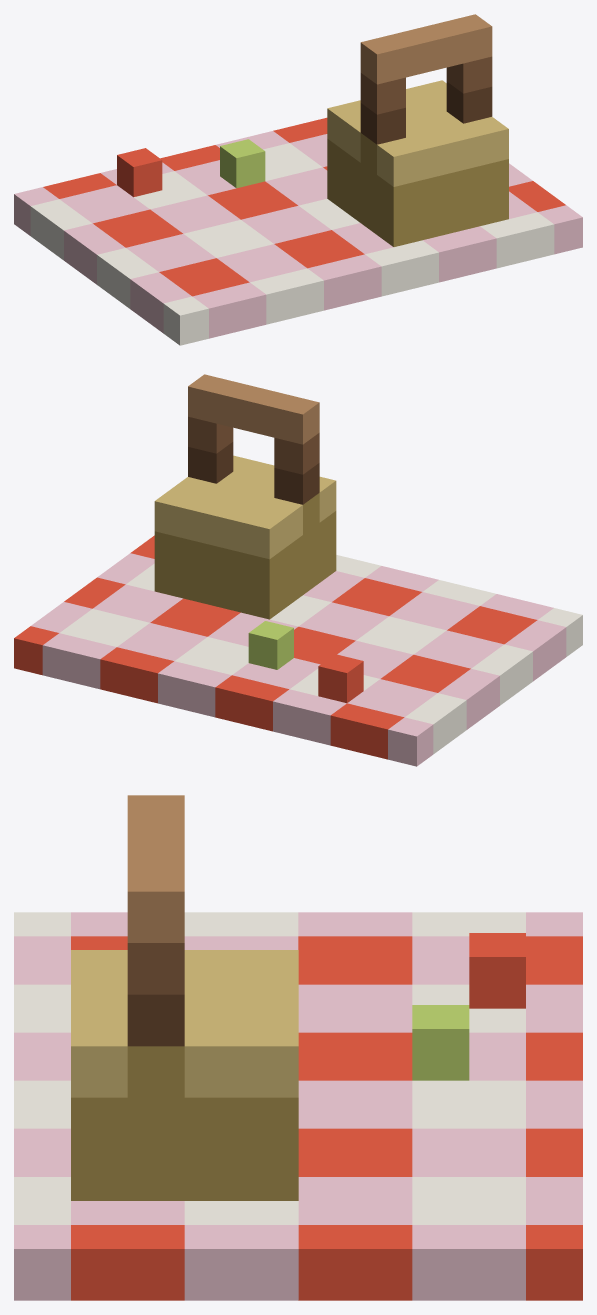
The model's file is SM_Picnic.fbx.
3 views of the same model, one above another, from view 1: azimuth 30°, elevation 25°; view 2: azimuth 150°, elevation 25°; view 3: azimuth 270°, elevation 25° (orthographic). The views are drawn at different scales.
Visible parts, largest first — view 1: SM_Picnic; view 2: SM_Picnic; view 3: SM_Picnic.
Part boxes in pixels (x1=…): SM_Picnic: x1=14, y1=14, x2=582, y2=345; SM_Picnic: x1=14, y1=374, x2=582, y2=766; SM_Picnic: x1=14, y1=795, x2=582, y2=1300.
Bounding box in the file's own units: 1.4 × 0.7 × 1.
Materials: 1 (1 with a texture image).
